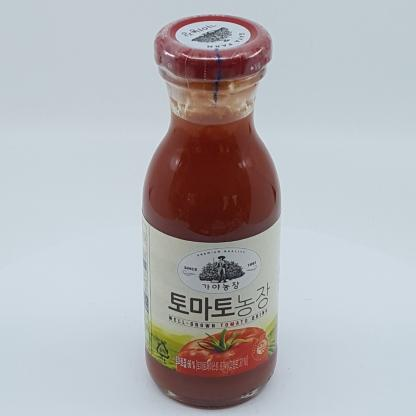-------180ML: (142, 14, 281, 409)
